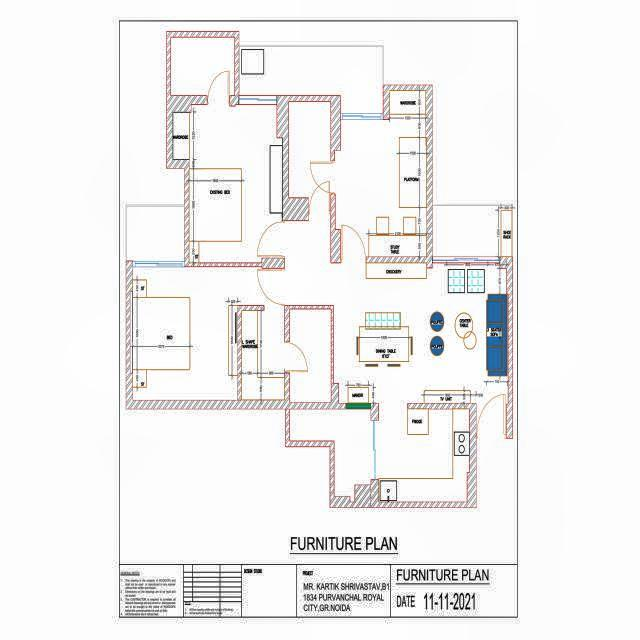room: (173, 105, 283, 262), (336, 91, 426, 256), (134, 267, 237, 399), (426, 268, 507, 402), (240, 47, 383, 118), (379, 408, 467, 501), (290, 409, 371, 494), (351, 304, 423, 380), (432, 205, 512, 256), (289, 104, 330, 198), (242, 313, 285, 398), (172, 38, 235, 94), (290, 311, 330, 399), (128, 207, 185, 260)
